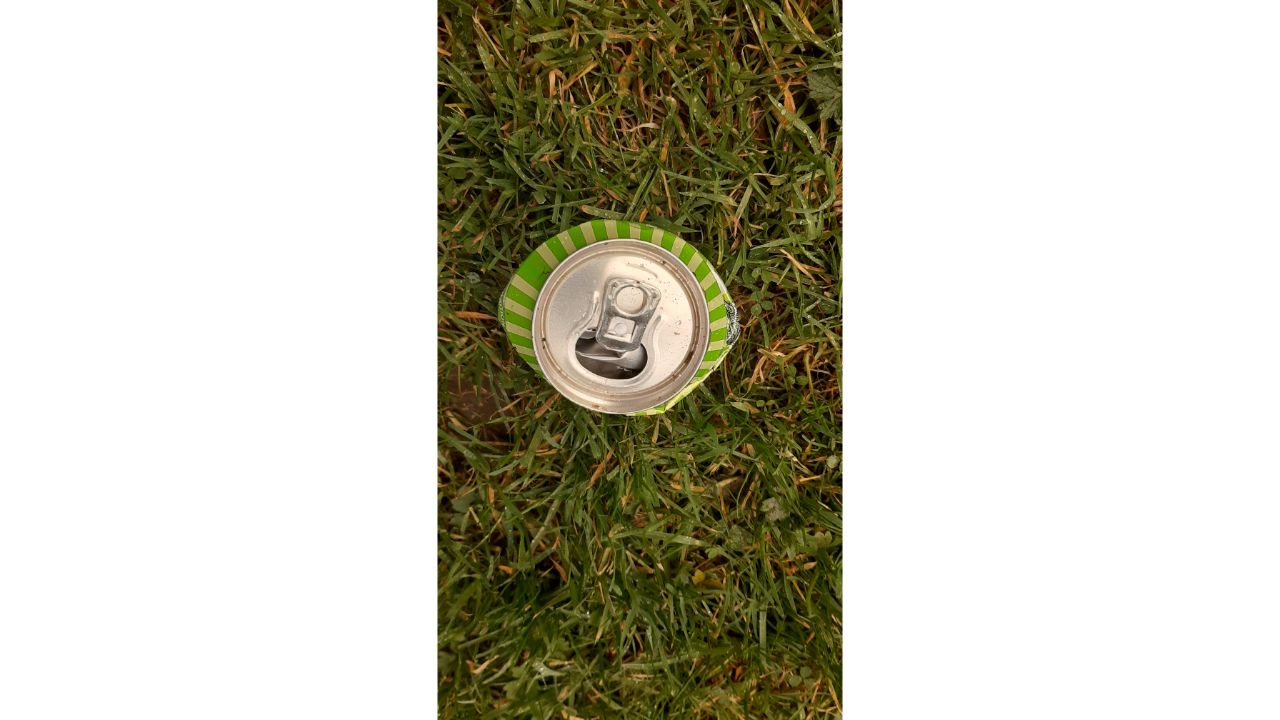Can: (497, 219, 740, 418)
